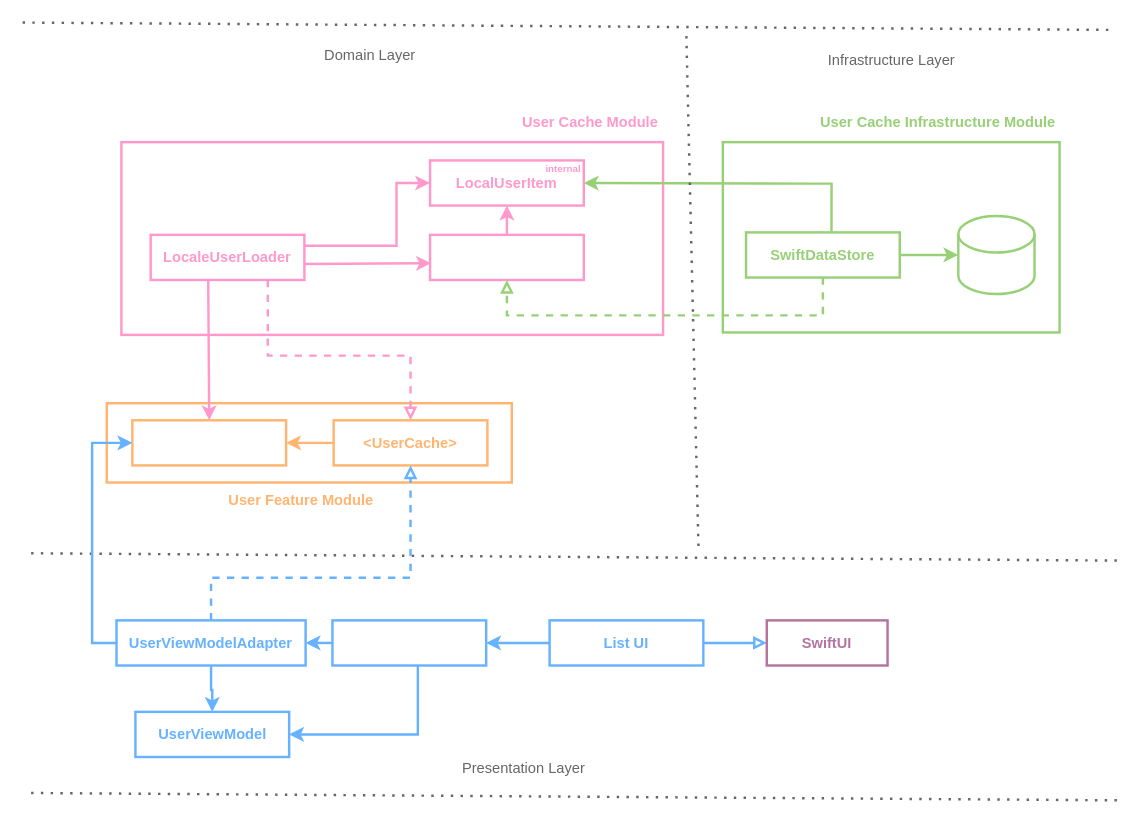
The diagram is 1141 pixels wide and 824 high, and some of its shapes have lost their labels. Here are the shapes that lost their labels. From the top down, the box of each, then its label:
(428, 233, 584, 281): <UserStore>
(956, 214, 1035, 295): Database
(131, 418, 287, 466): User
(331, 619, 487, 666): UserListViewModel
